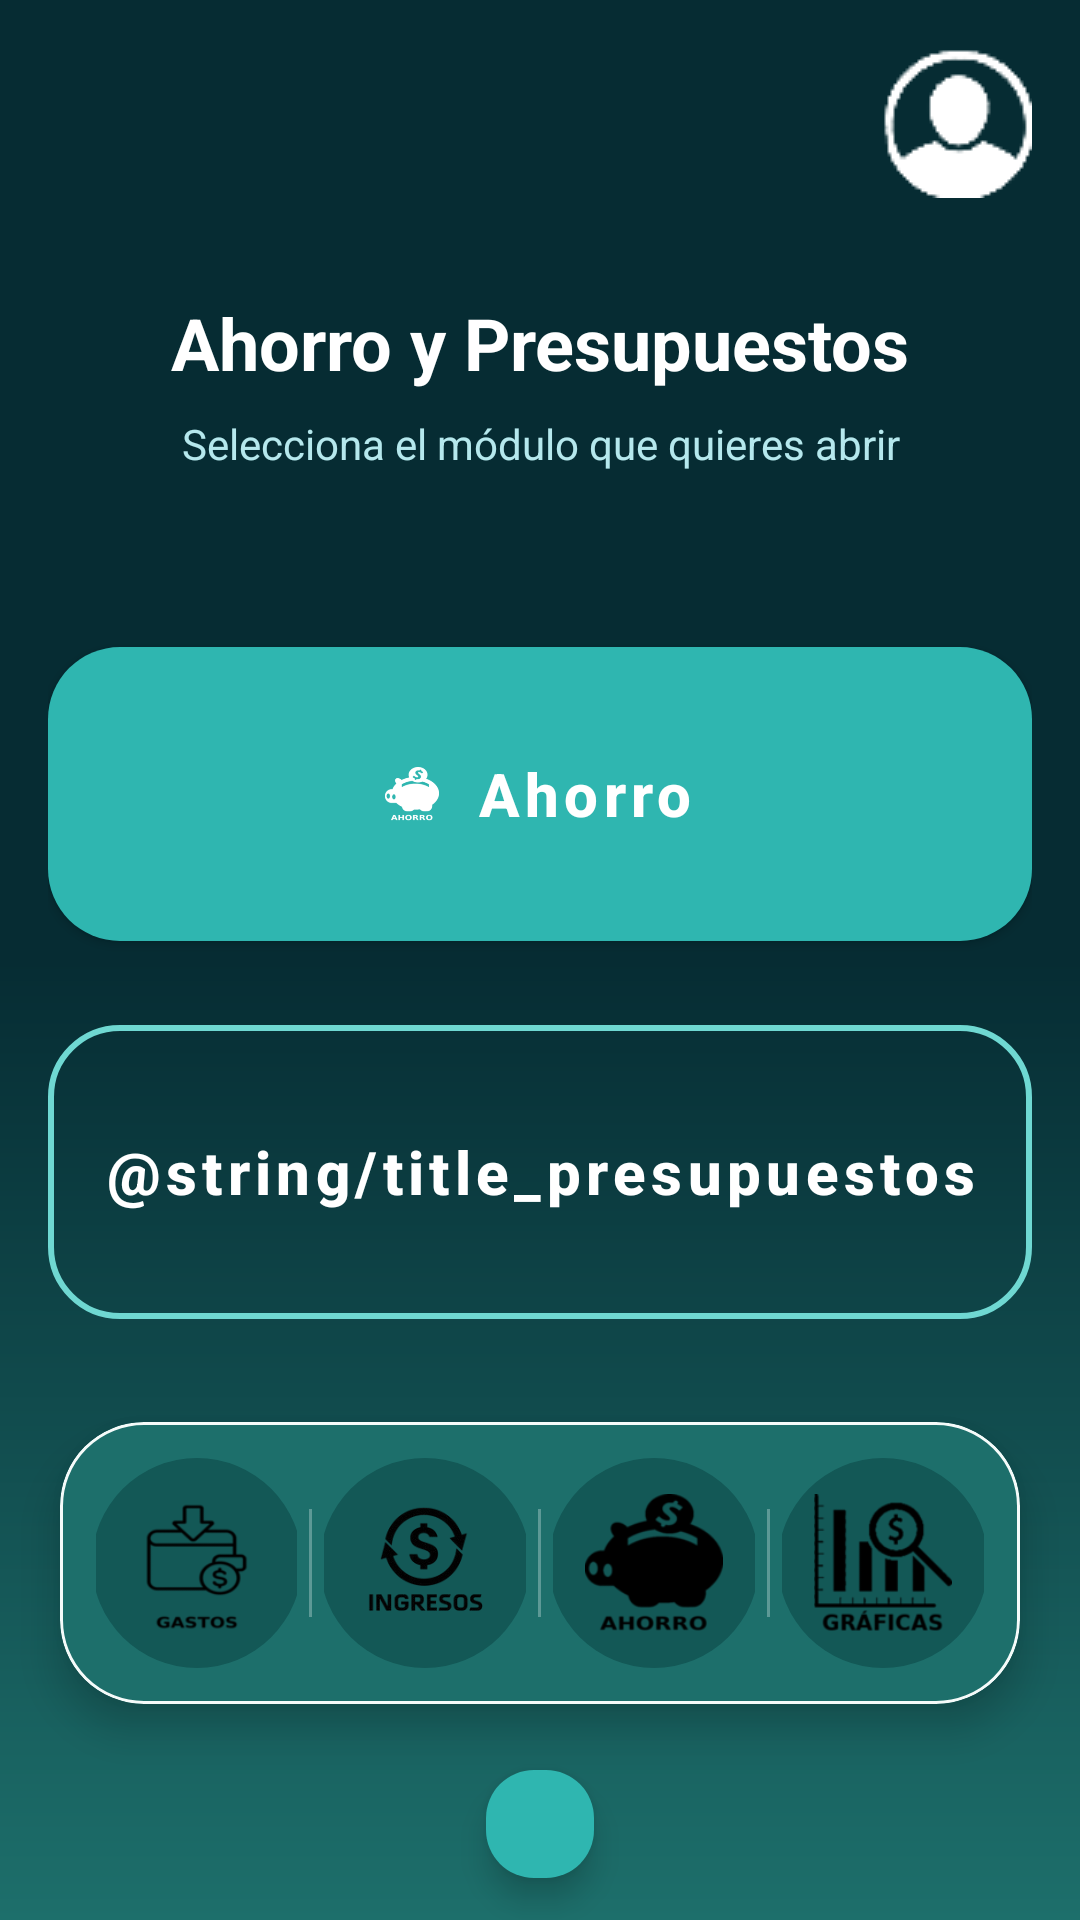

Named icons in this screenshot (1080px×1920px) and their centers, point (x, y):
Perfil: point (958, 124)
